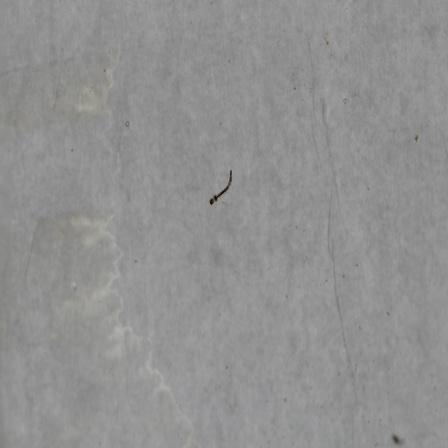Jentik-Nyamuk: (206, 166, 239, 213)
